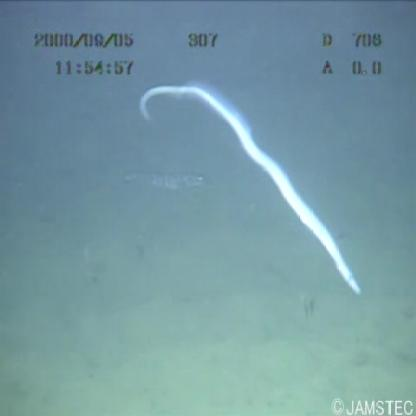Bio: (132, 80, 367, 307)
